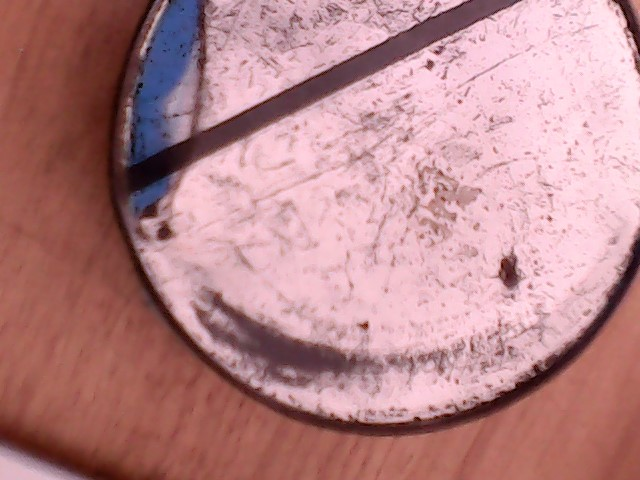Metal: (76, 0, 640, 480)
